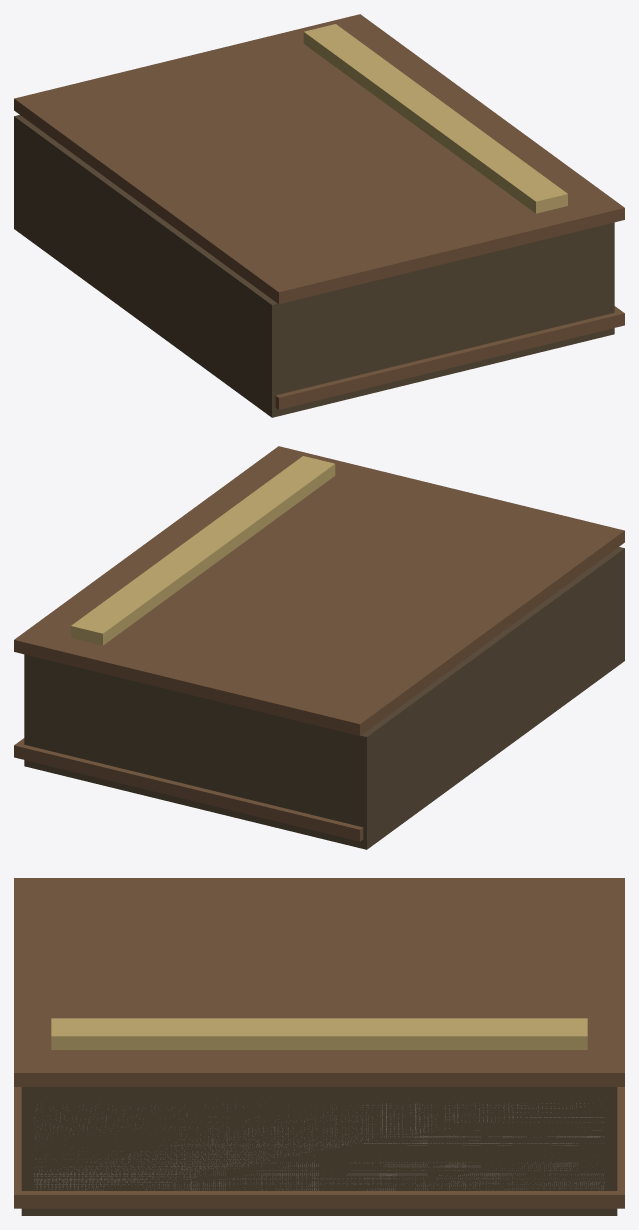
Rendered from blender_ghost_writing_book_2.glb.
3 renders of one model, top to bottom at view 1: azimuth 30°, elevation 25°; view 2: azimuth 150°, elevation 25°; view 3: azimuth 270°, elevation 25°, orthographic. The views are drawn at different scales.
Visible parts, largest first — view 1: blender_ghost_writing_book_2; view 2: blender_ghost_writing_book_2; view 3: blender_ghost_writing_book_2.
Part boxes in pixels (x1,y1,x2,y2): blender_ghost_writing_book_2: [14, 14, 624, 417]; blender_ghost_writing_book_2: [14, 446, 624, 849]; blender_ghost_writing_book_2: [14, 878, 624, 1215].
Bounding box in the file's own units: 0.1525 × 0.058 × 0.2.
1 material, 1 textured.
